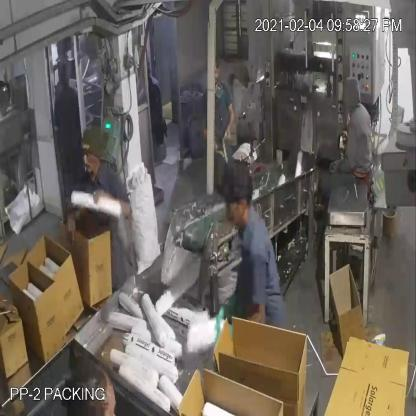no_glove: (86, 193, 134, 229), (54, 191, 90, 232), (219, 93, 242, 149)
